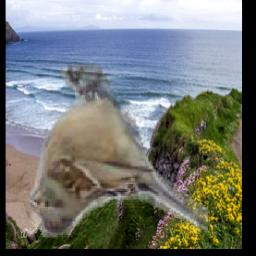Sparrow: (30, 64, 208, 240)
